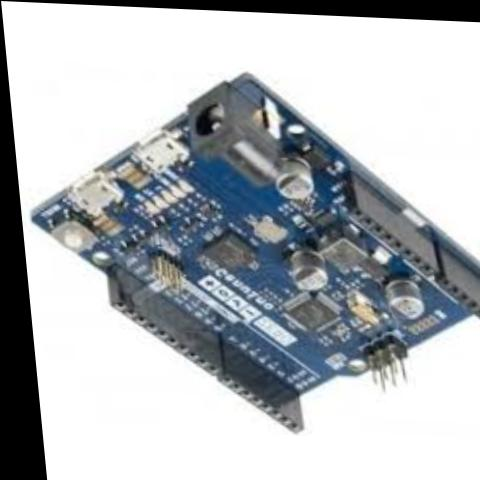Arduino-Zero: (5, 64, 480, 439)
